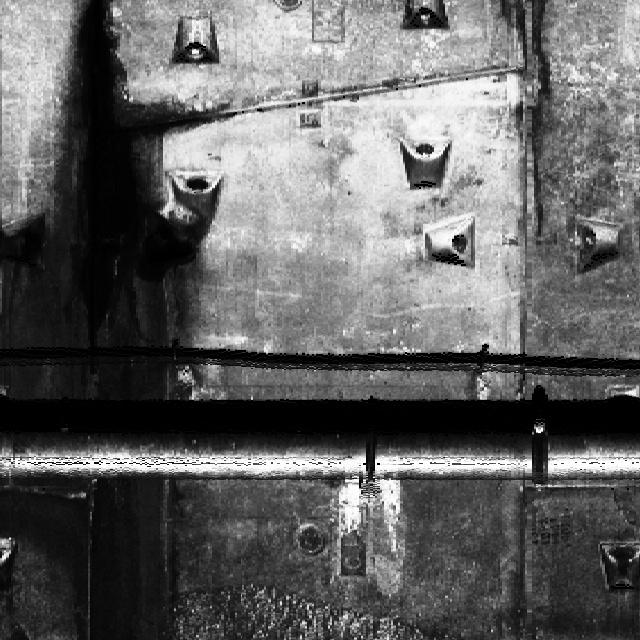leakage: (0, 0, 223, 398), (7, 463, 193, 639)
